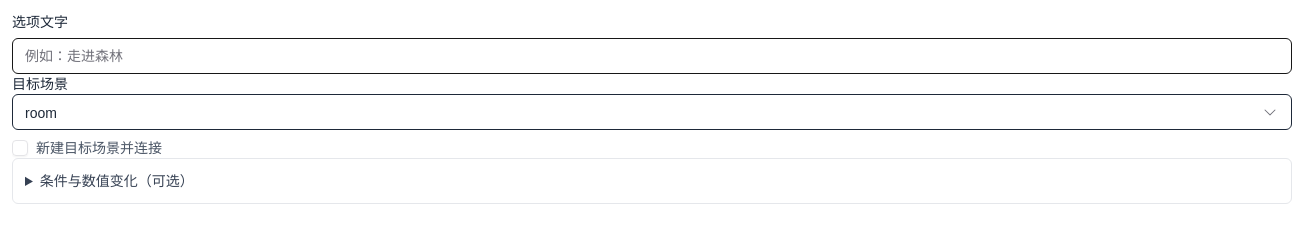
Test: 目标场景选择 › 新建模式使用空白名称输入框，切回选择模式不留下未创建的名称
The image size is (1304, 227).
Click the checkbox named "新建目标场景并连接".
click(20, 148)  # box [12,140,28,156]
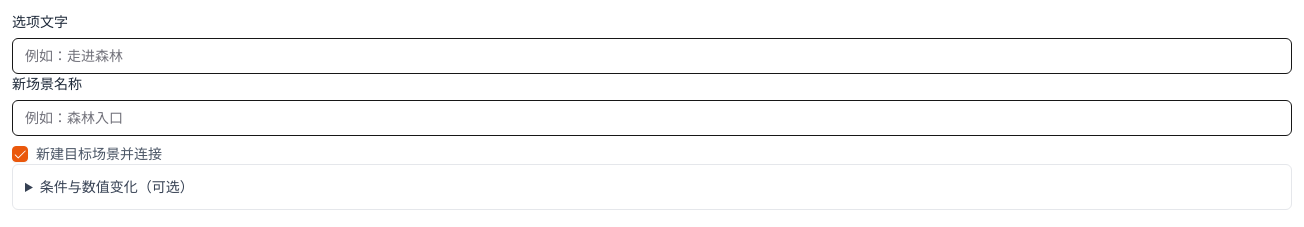
Expected: the field labelled "新场景名称" is empty
Type "书房" into the field labelled "新场景名称".
click(652, 118); type("书房")  # box [12,100,1292,136]
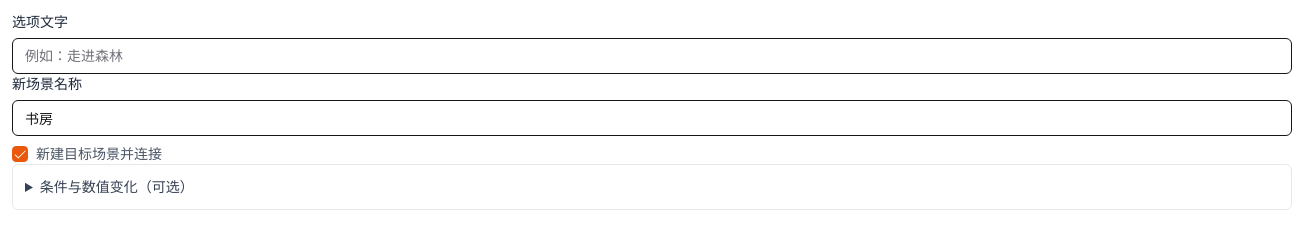
Click the checkbox named "新建目标场景并连接".
click(20, 154)  # box [12,146,28,162]
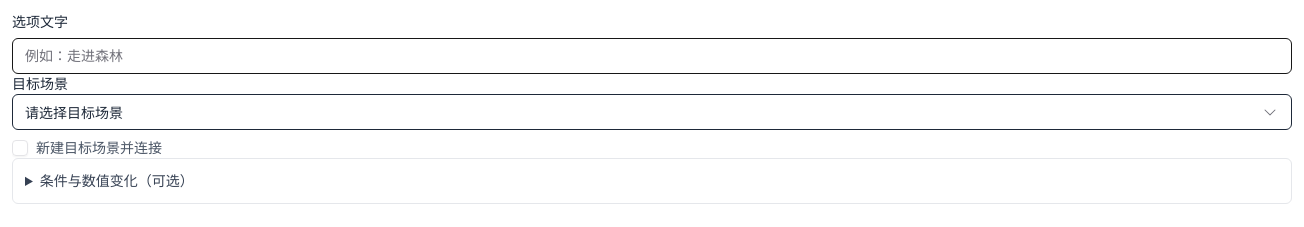
Expected: the option "书房" is not shown
Expected: the dropdown labelled "目标场景" shows "请选择目标场景", [12,94,1292,130]
